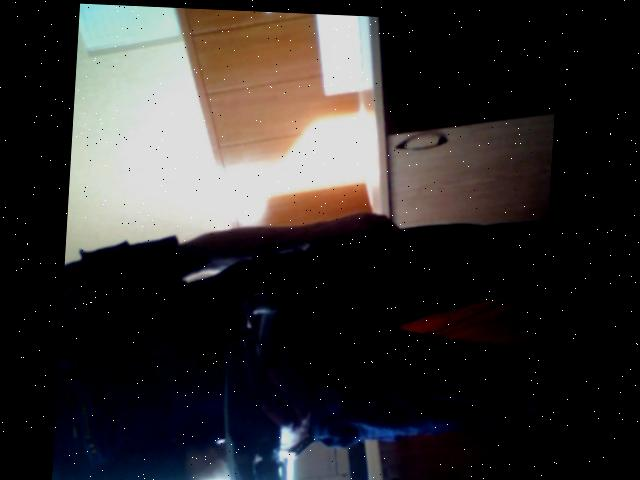drone: (203, 267, 331, 480)
